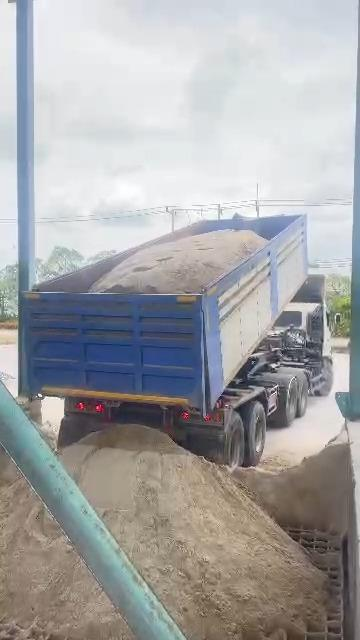sand: (63, 425, 326, 639), (0, 476, 131, 638), (234, 430, 350, 532), (92, 230, 266, 293), (0, 621, 70, 639), (0, 445, 17, 488)
